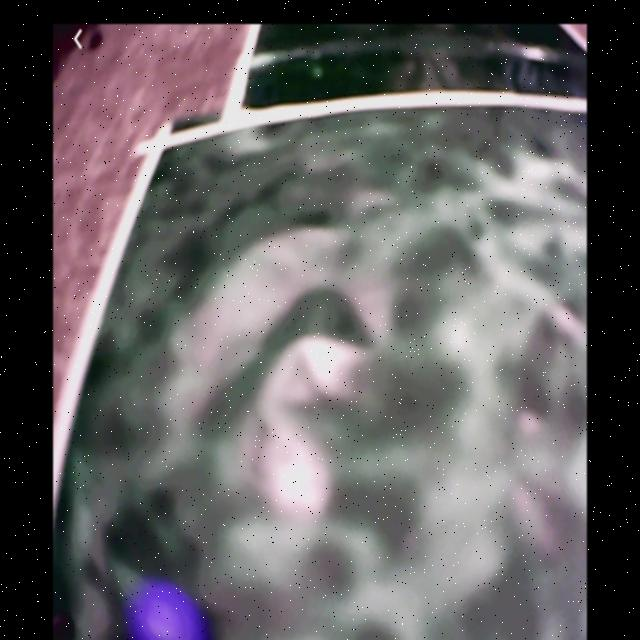ball: (118, 583, 206, 640)
